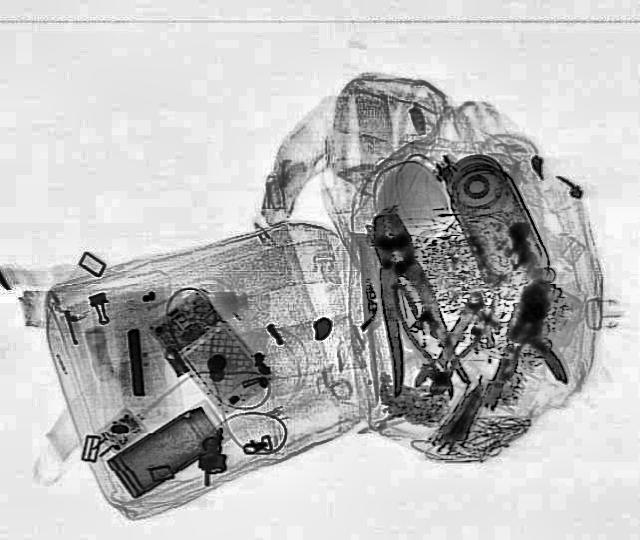Pliers: (342, 206, 472, 397), (378, 288, 500, 400)
Wrench: (410, 283, 496, 392)
